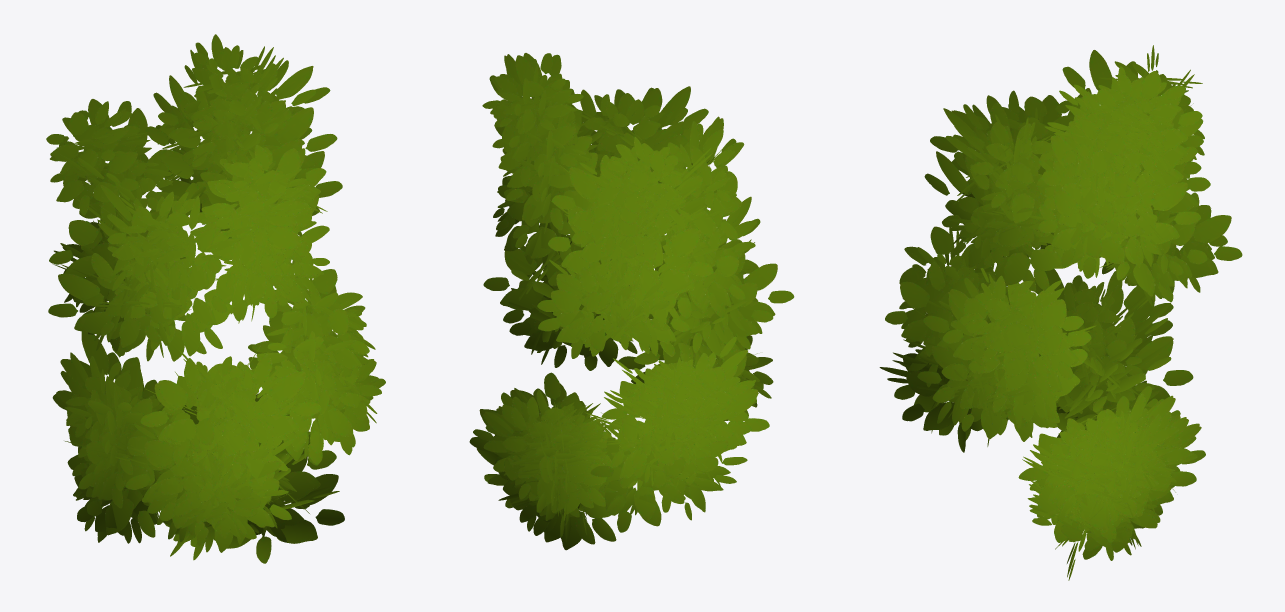
The model's file is commontree-3-lo.glb.
The picture shows the model from 3 angles, left to right: view 1: azimuth 30°, elevation 25°; view 2: azimuth 150°, elevation 25°; view 3: azimuth 270°, elevation 25°; orthographic projection. The views are drawn at different scales.
Visible parts, largest first — view 1: CommonTree_3; view 2: CommonTree_3; view 3: CommonTree_3.
Boxes of the visible parts, <box> form: CommonTree_3: <box>46,34,385,563</box>; CommonTree_3: <box>469,53,794,550</box>; CommonTree_3: <box>879,45,1242,580</box>.
Size of the model in its own units: 4.47 by 7.23 by 4.93.
Materials: 1 (1 with a texture image).
